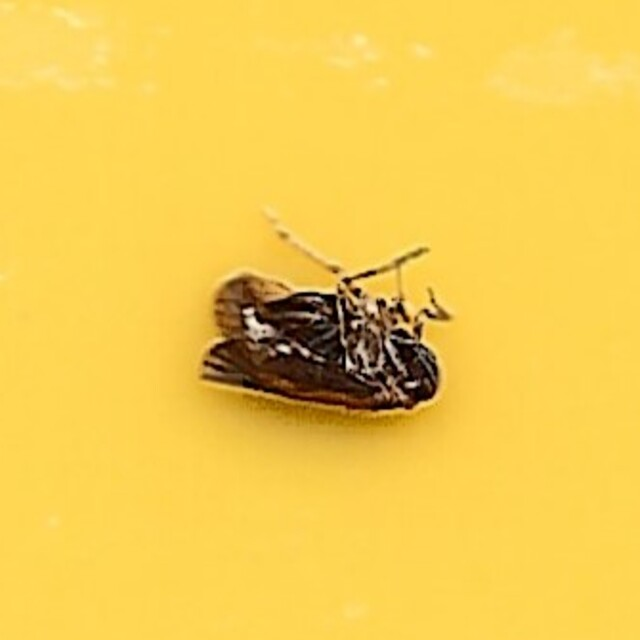Hemiptera: (191, 213, 449, 427)
